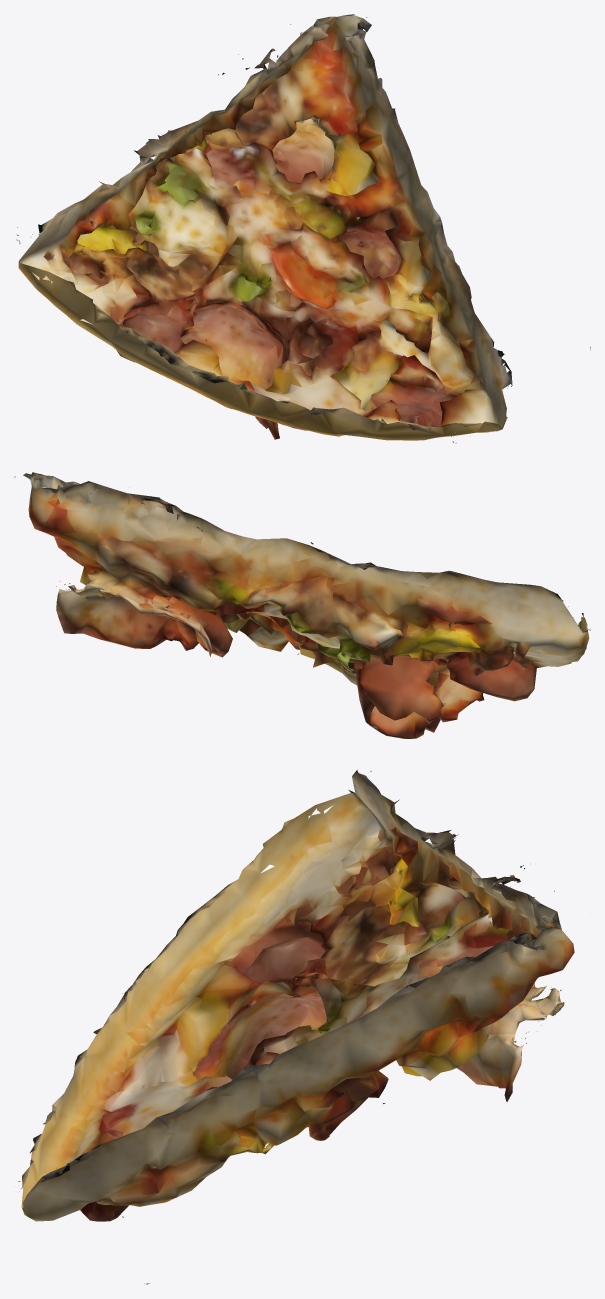
File: pizza_6139.obj
3 renders of one model, top to bottom at view 1: azimuth 30°, elevation 25°; view 2: azimuth 150°, elevation 25°; view 3: azimuth 270°, elevation 25°, orthographic. The views are drawn at different scales.
Bounding box in the file's own units: 1.61 × 0.8475 × 1.27.
1 material, 1 textured.
